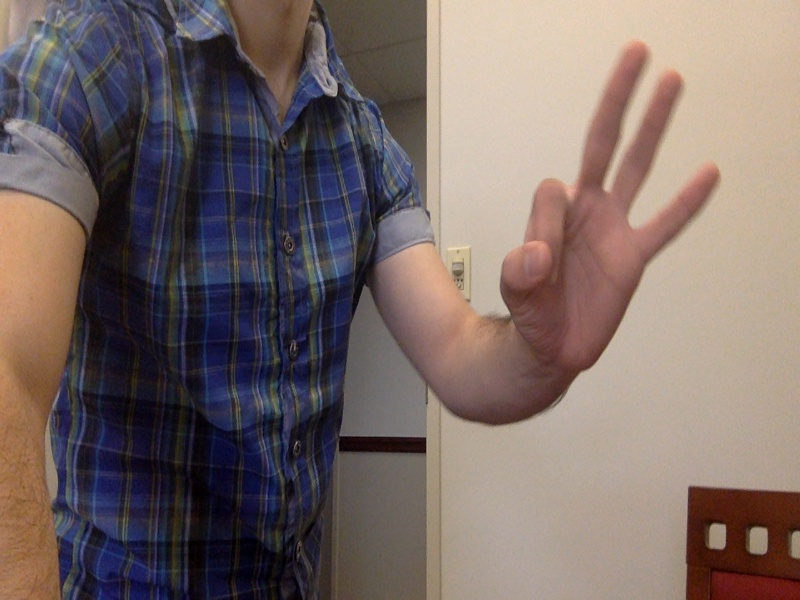3-hand: (496, 39, 721, 387)
